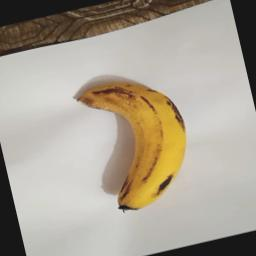Banana Unripe: (66, 60, 202, 218)
